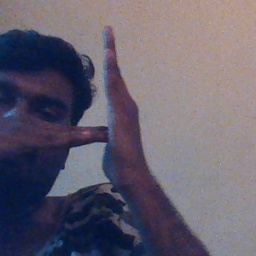Z: (25, 21, 152, 190)
